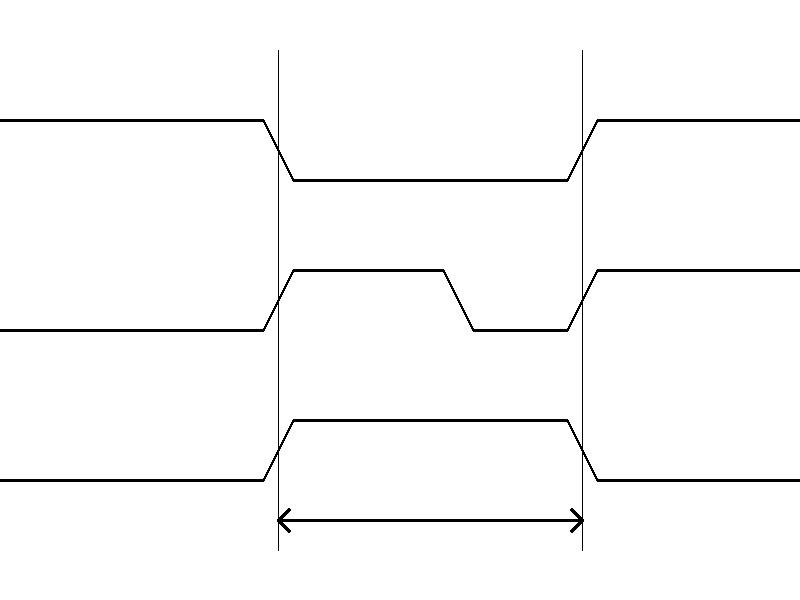double_arrow: (278, 505, 582, 535)
